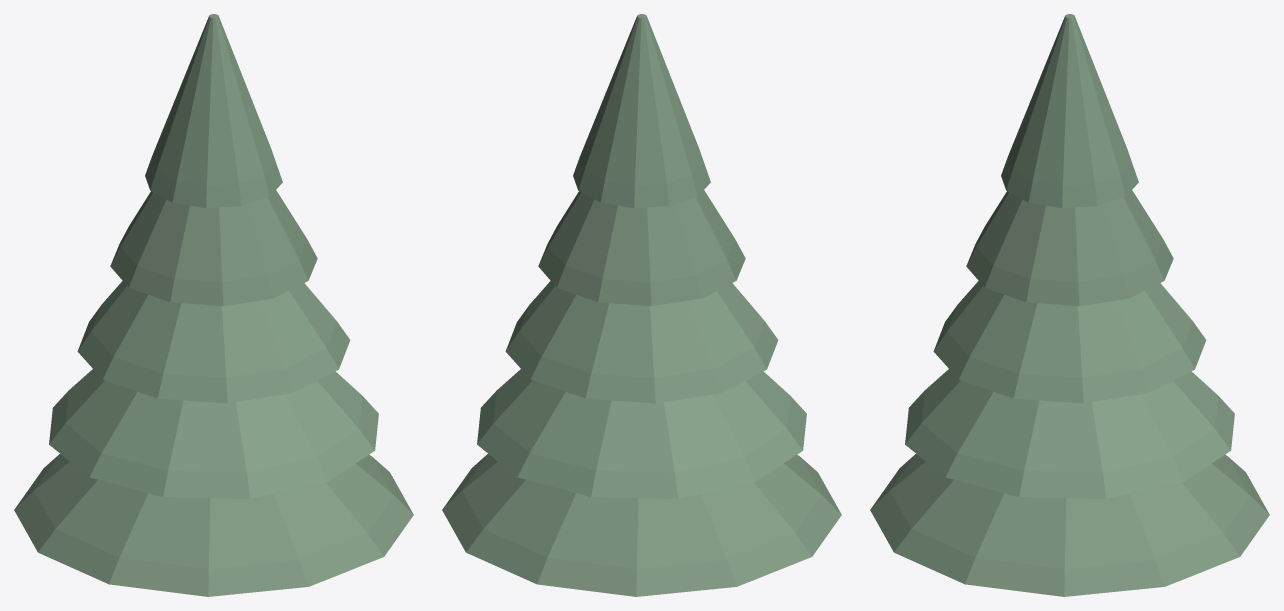
The model's file is tree_pine_canopy.glb.
3 views of the same model, side by side, from view 1: azimuth 30°, elevation 25°; view 2: azimuth 150°, elevation 25°; view 3: azimuth 270°, elevation 25° (orthographic).
Parts seen in each view (by area): view 1: tree; view 2: tree; view 3: tree.
Boxes of the visible parts, x1,y1,x2,y2 form: tree: [14, 14, 413, 596]; tree: [442, 14, 841, 596]; tree: [870, 14, 1269, 596].
Bounding box in the file's own units: 4.09 × 5.6 × 4.09.
